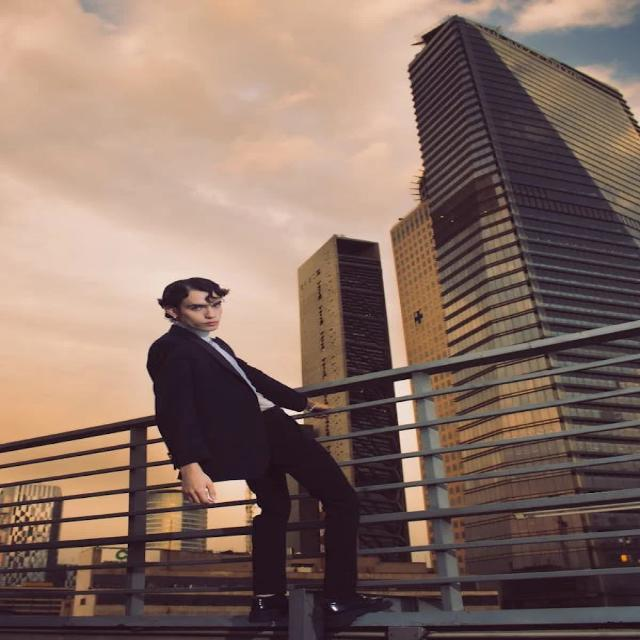Real human 2: (131, 262, 403, 640)
